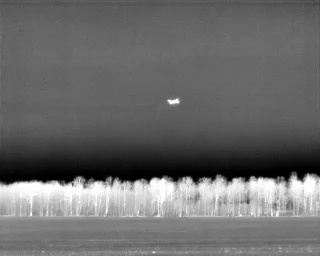DRONE: (164, 93, 184, 110)
